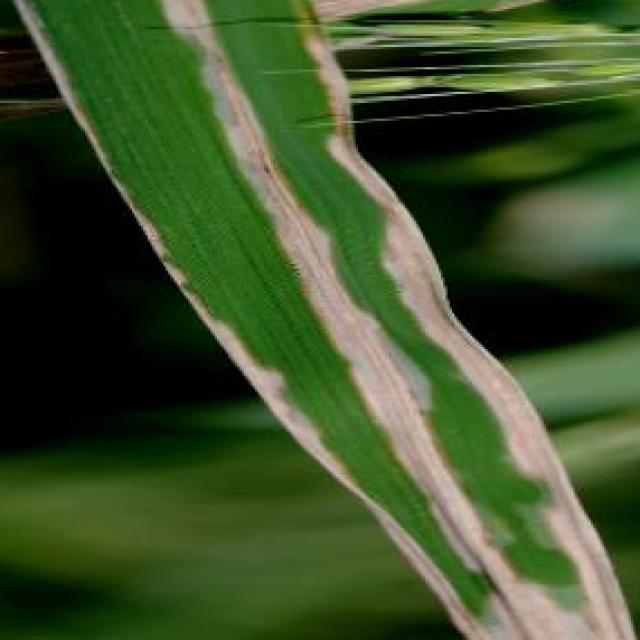Bacterial_Leaf_Blight: (128, 0, 402, 486)
